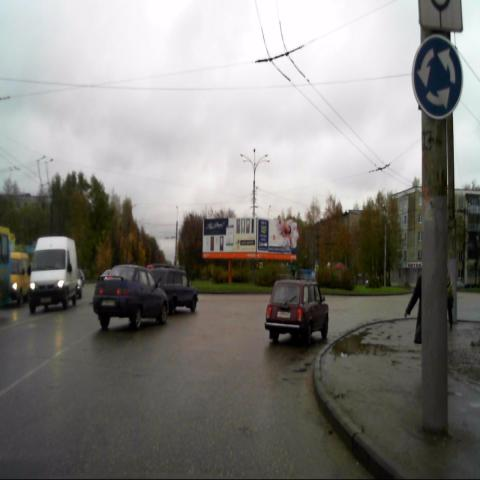4_3: (411, 33, 463, 120)
